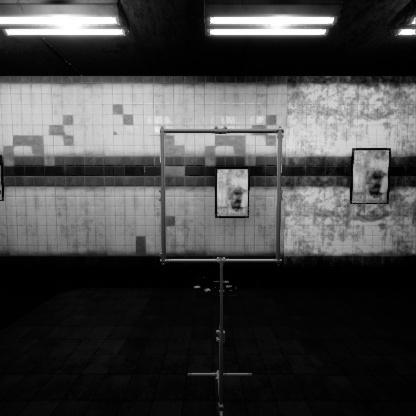gate: (160, 151, 295, 288)
